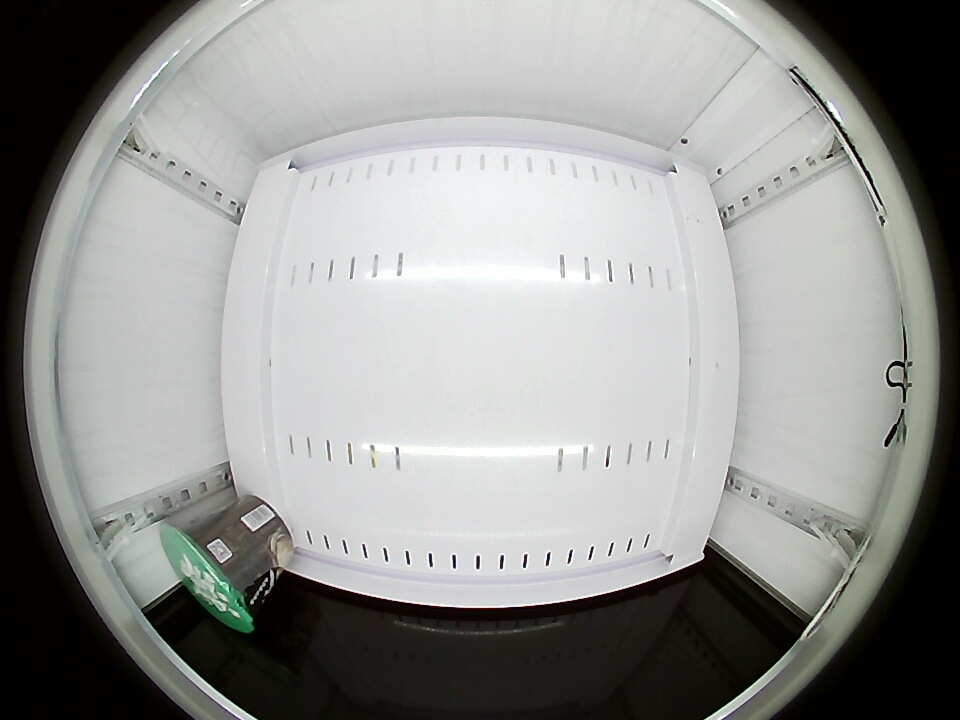liaomian: (159, 522, 263, 633)
